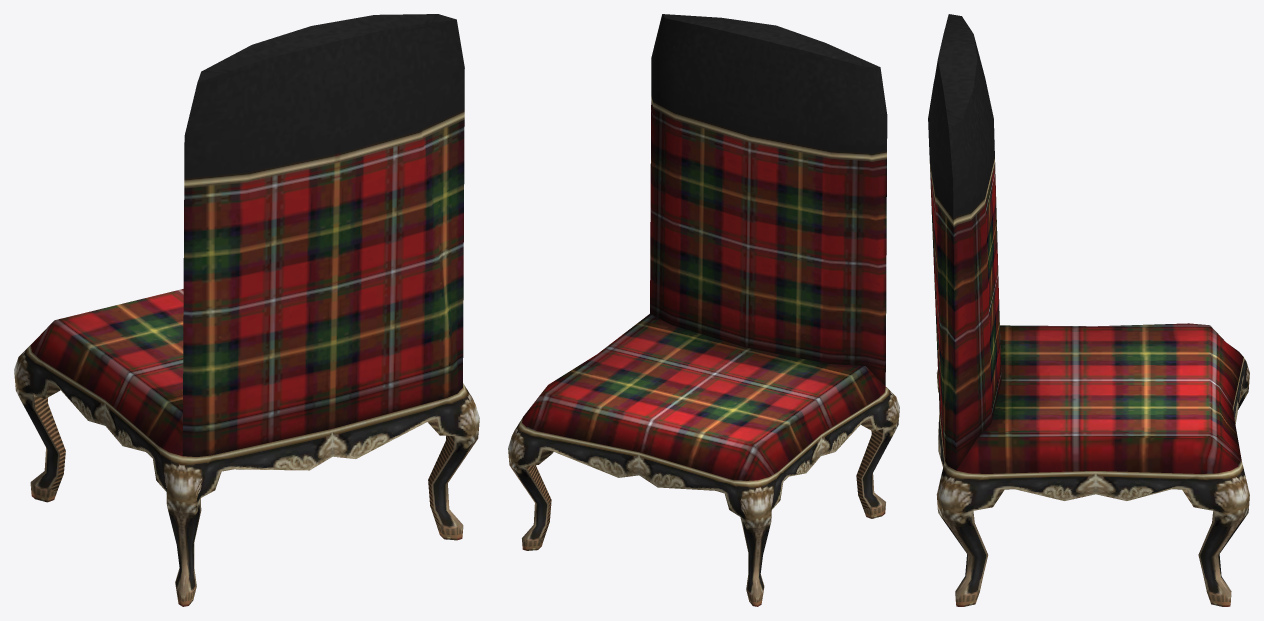
Rendered from furni_0200314.FBX.
3 views of the same model, side by side, from view 1: azimuth 30°, elevation 25°; view 2: azimuth 150°, elevation 25°; view 3: azimuth 270°, elevation 25° (orthographic). The views are drawn at different scales.
Visible parts, largest first — view 1: furni_0200314; view 2: furni_0200314; view 3: furni_0200314.
Part boxes in pixels (x1,y1,x2,y2): furni_0200314: [14, 14, 479, 606]; furni_0200314: [508, 14, 899, 606]; furni_0200314: [928, 14, 1249, 606].
Size of the model in its own units: 80.4 by 134 by 80.29.
1 material, 1 textured.
